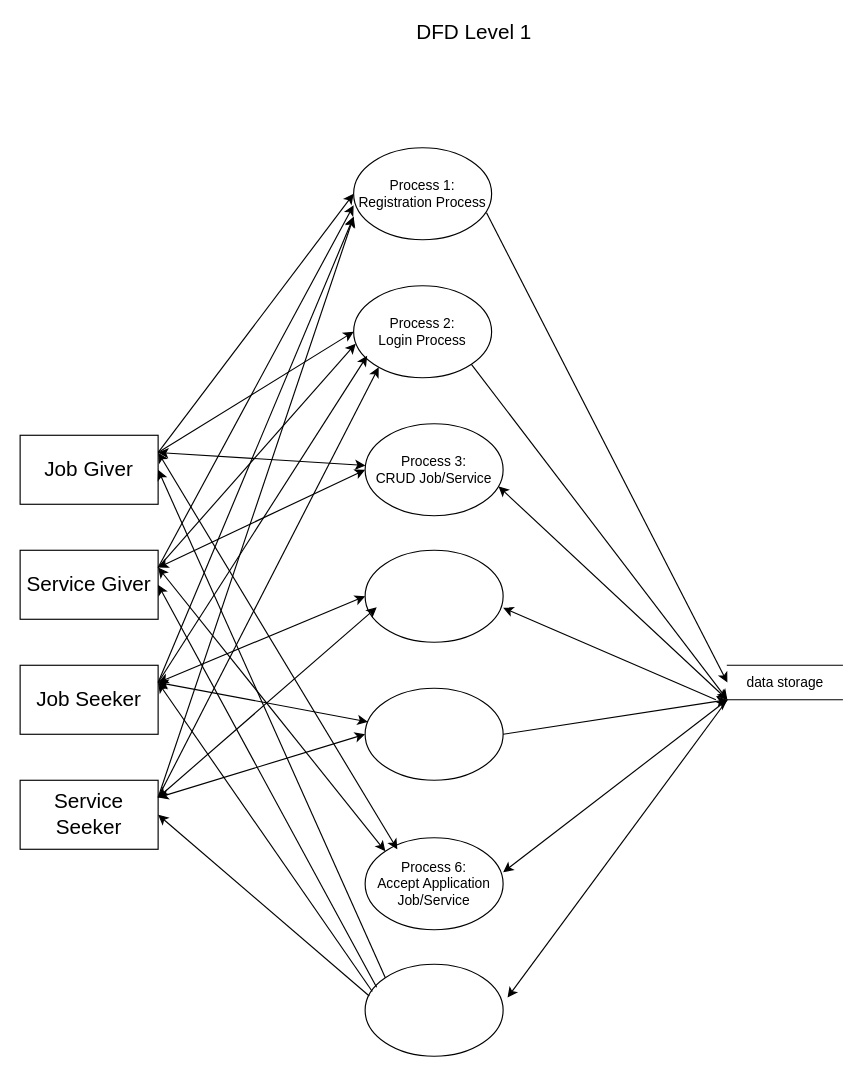
This 863x1076 diagram has some shape labels left out. Here are the shapes that lost their labels. From the top down, the box of each, then its label:
(364, 549, 503, 642): Process 4: Search Job/Service
(364, 687, 503, 780): Process 5: Apply to Job/Service
(364, 963, 503, 1056): Process 8: Get notifications
